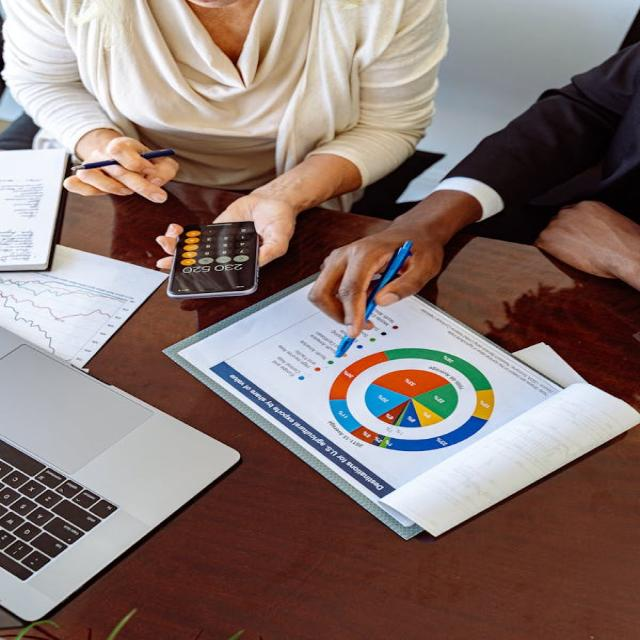pen: (320, 234, 424, 357)
